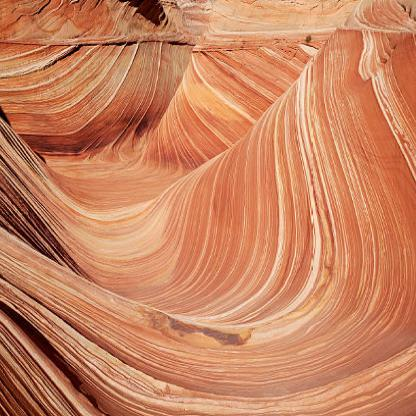Sedimentary_Sandstone: (332, 31, 416, 415), (0, 304, 138, 416), (0, 43, 141, 111), (188, 49, 309, 122)
